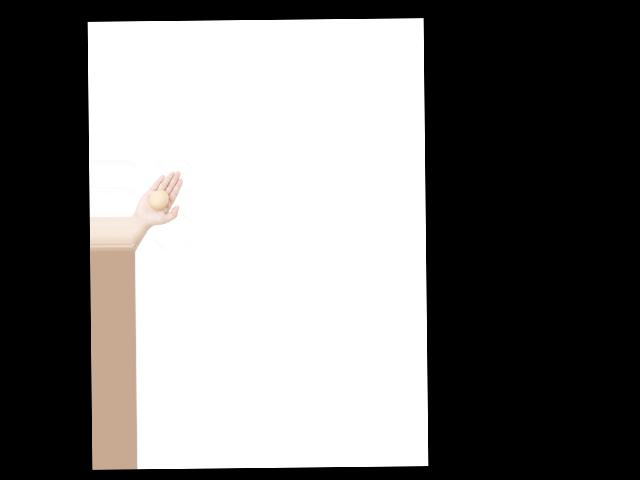egg: (149, 190, 168, 210)
